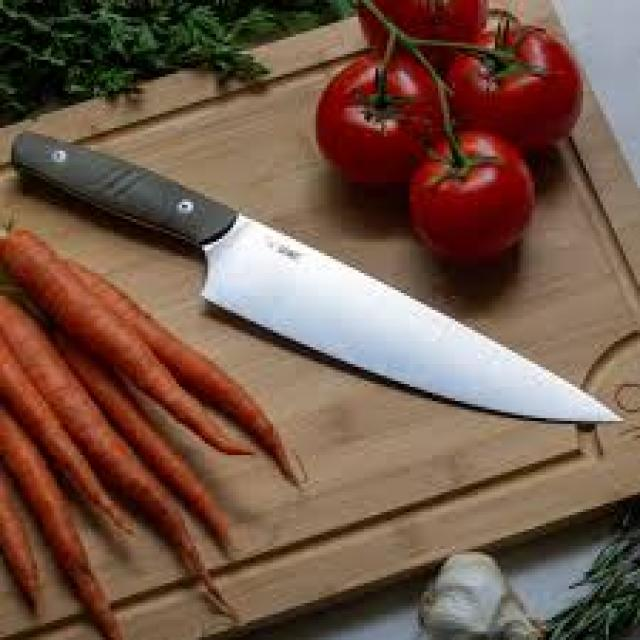knife: (8, 131, 626, 422)
